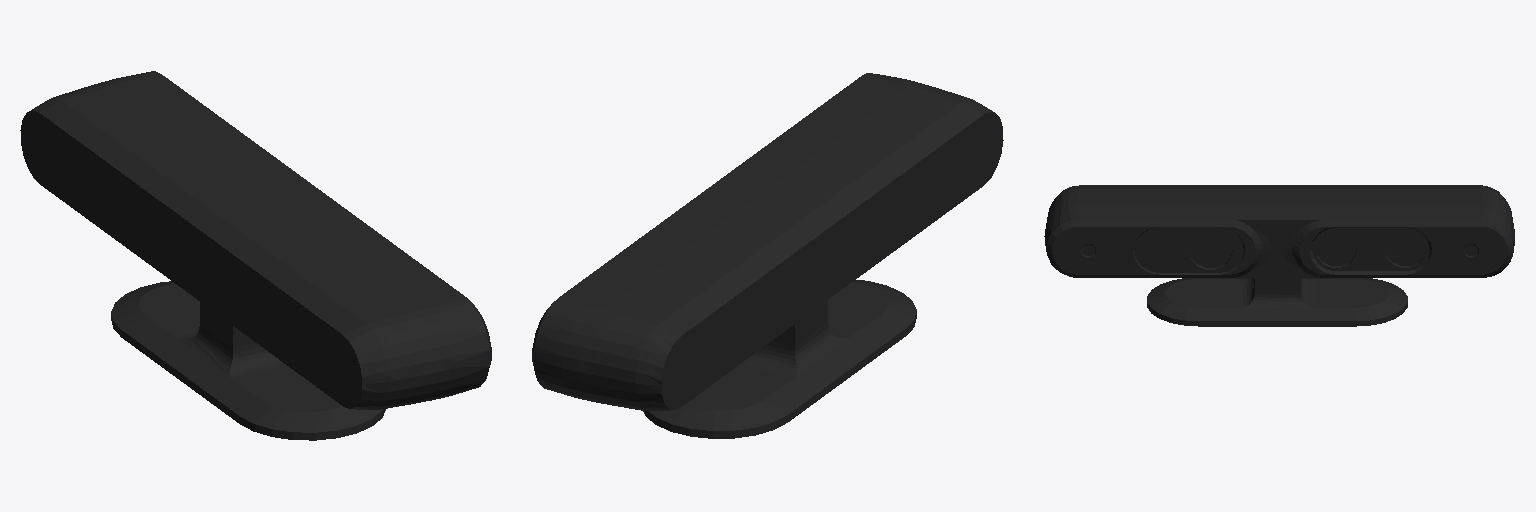
URDF robot description (xtion):
<?xml version="1.0"?>
<robot name="xtion">
  <link name="base_link">
    <inertial>
      <origin xyz="0 0 0" rpy="0 0 0" />
      <!-- TODO(eric.cousineau): Use actual inertial properties. -->
      <mass value="0.1"/>
      <inertia ixx="0.01" ixy="0.0" ixz="0.0" iyy="0.01" iyz="0.0" izz="0.01"/>
    </inertial>
    <visual>
      <origin xyz="0 0 0" rpy="0 0 0" />
      <geometry>
        <mesh filename="xtion.obj" />
      </geometry>
      <material name="dark">
        <color rgba="0.2 0.2 0.2 1" />
      </material>
    </visual>
    <!-- TODO(eric.cousineau): Consider collision. -->
   </link>
</robot>

--- Render facts (derived) ---
The picture shows the robot from 3 angles, left to right: view 1: azimuth 30°, elevation 25°; view 2: azimuth 150°, elevation 25°; view 3: azimuth 270°, elevation 25°; orthographic projection.
Robot: xtion — 1 links, 0 joints (none); root link base_link; default pose: all joints at 0.
Visible links, largest first — view 1: base_link; view 2: base_link; view 3: base_link.
Link boxes in pixels (box(x1,y1,x2,y2)): base_link: box(20, 71, 491, 440); base_link: box(532, 73, 1003, 438); base_link: box(1044, 185, 1514, 326).
Size in the robot's own frame: 0.0415 by 0.1803 by 0.0452 metres.
Meshes: 1 distinct files referenced, 1 mesh visuals loaded (1 OBJ).
